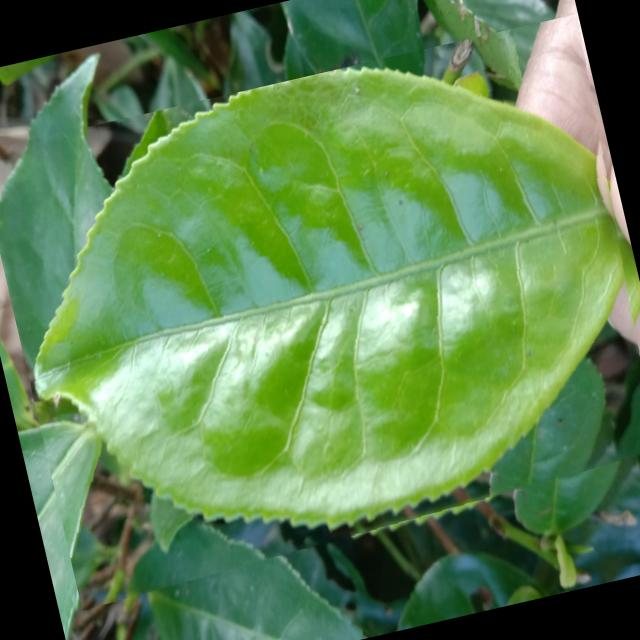Category B(2-4 days): (0, 12, 640, 610)
